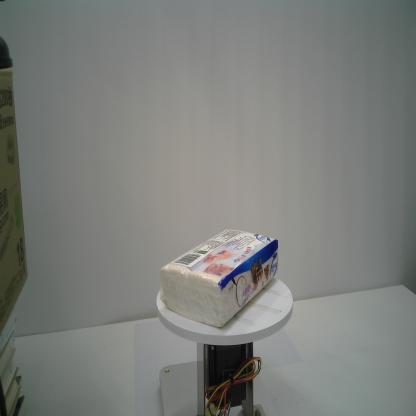Tissue: (160, 227, 279, 329)
